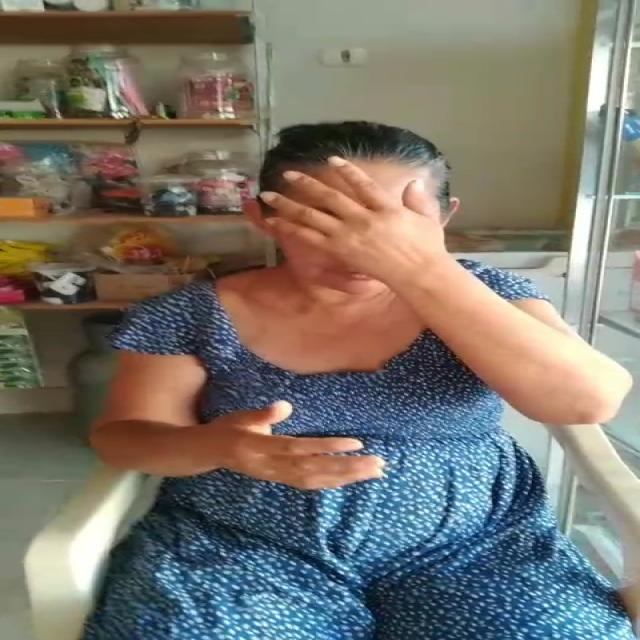7_mano_rostro: (251, 156, 460, 318)
